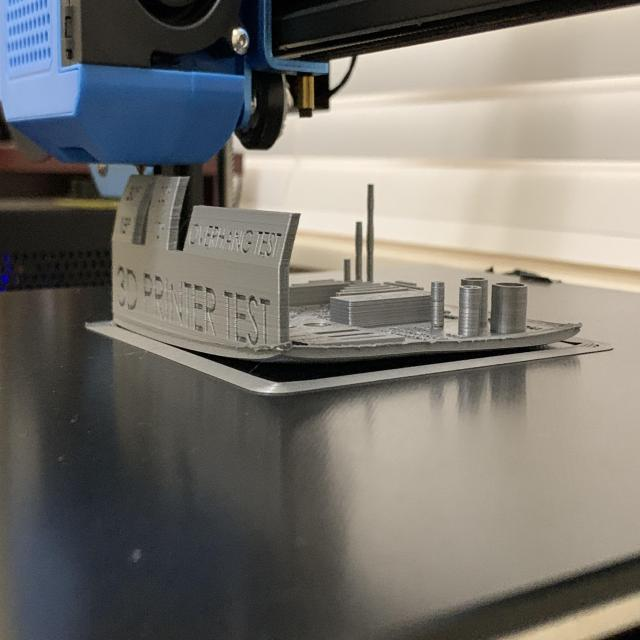Warping: (188, 318, 494, 412)
